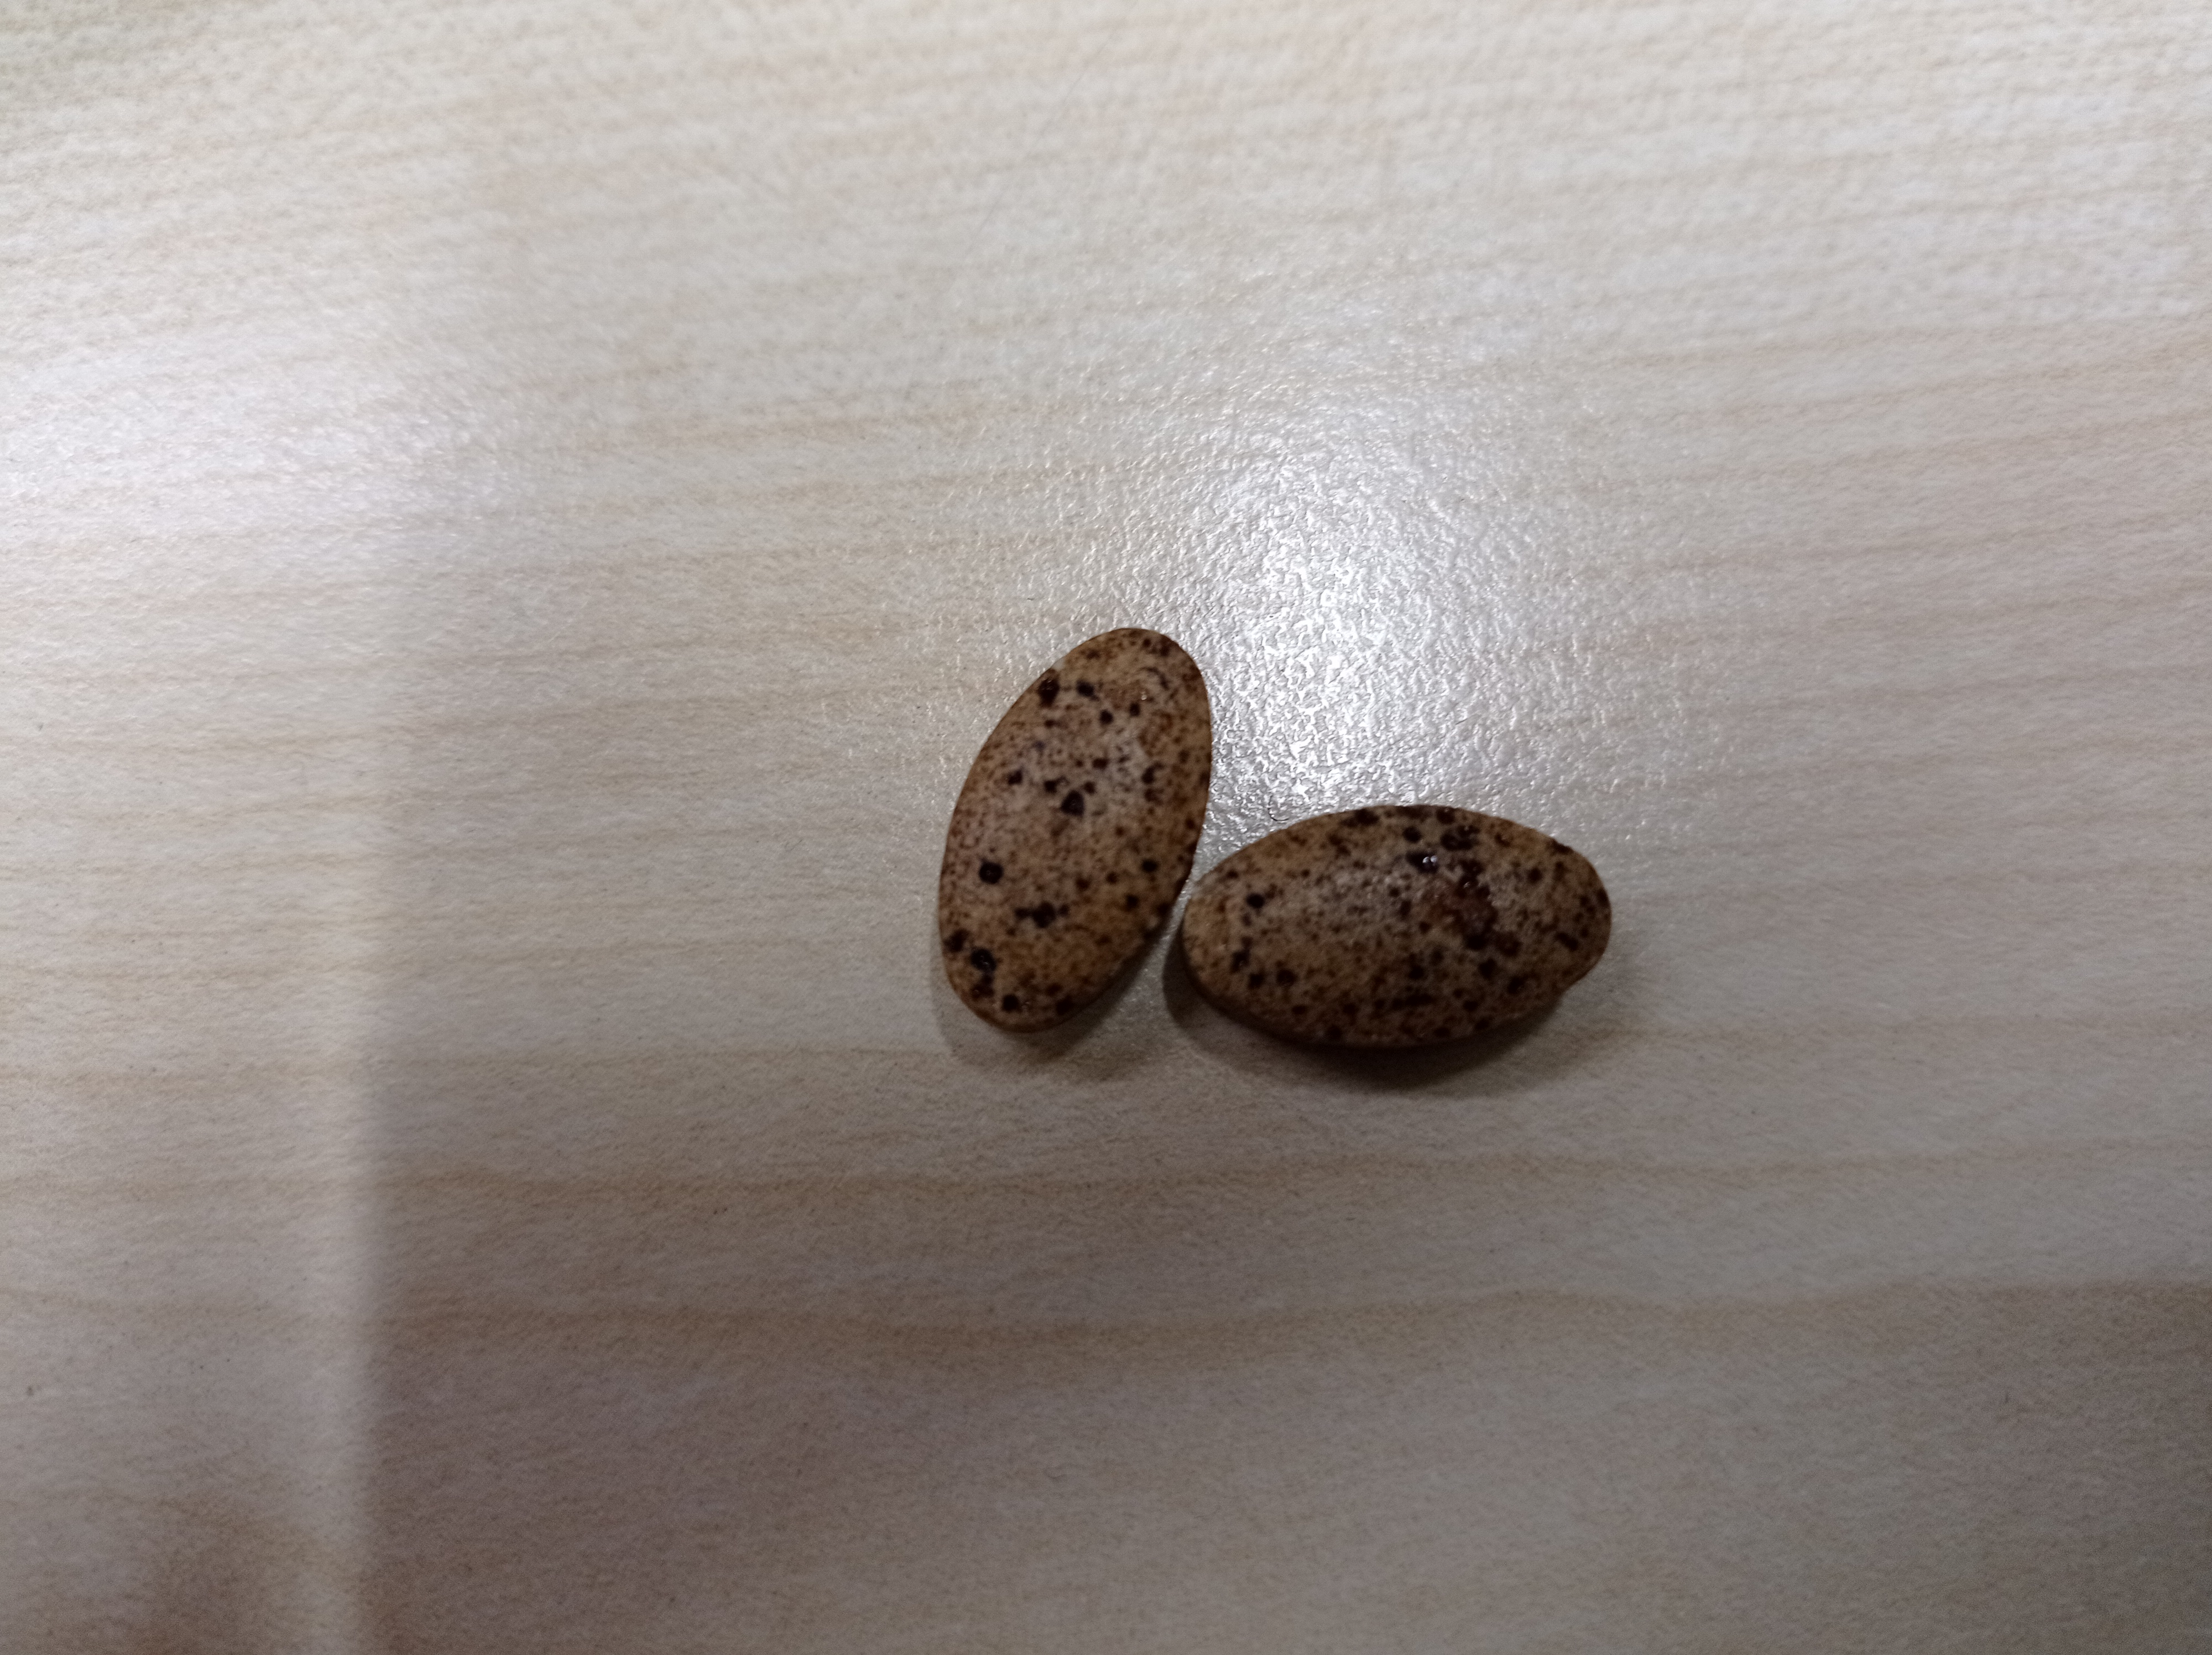brown_medicine: (933, 628, 1218, 1047), (1182, 801, 1619, 1067)
